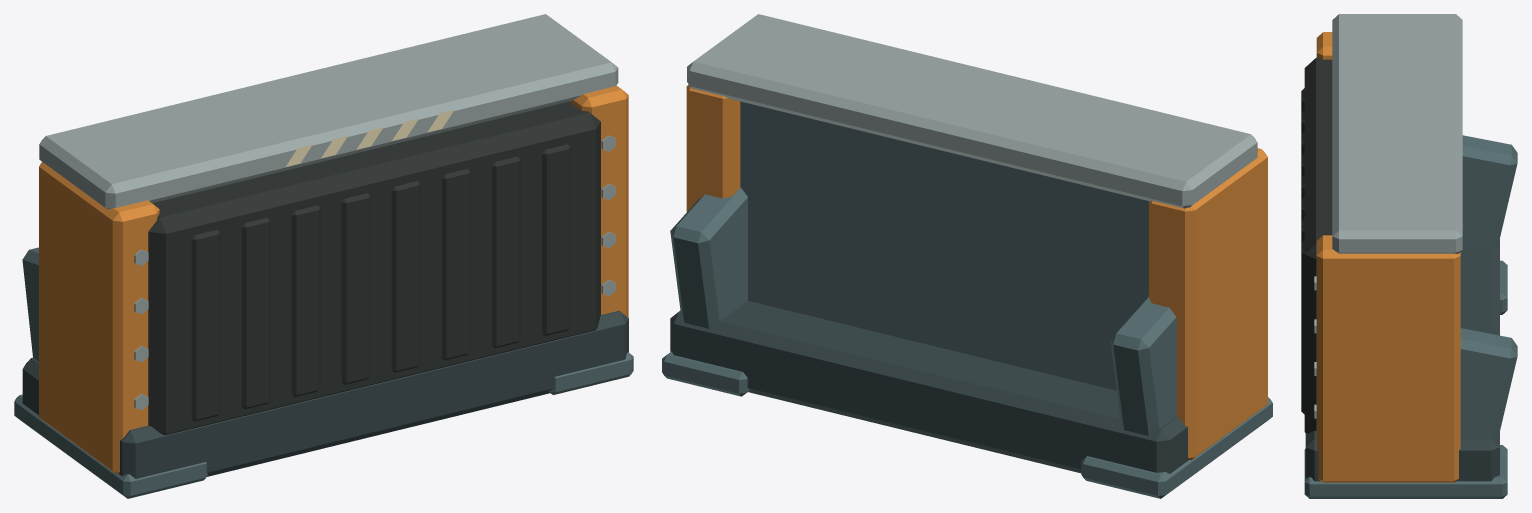
The model's file is e2-charge-stop.glb.
3 views of the same model, side by side, from view 1: azimuth 30°, elevation 25°; view 2: azimuth 150°, elevation 25°; view 3: azimuth 270°, elevation 25° (orthographic). The views are drawn at different scales.
Visible parts, largest first — view 1: ChargeStopFrame, ChargeStopReplaceableFace; view 2: ChargeStopFrame; view 3: ChargeStopFrame, ChargeStopReplaceableFace.
Part boxes in pixels (box(x1,y1,x2,y2)): ChargeStopFrame: box(14, 14, 633, 498); ChargeStopReplaceableFace: box(148, 101, 600, 435); ChargeStopFrame: box(662, 14, 1272, 498); ChargeStopFrame: box(1304, 14, 1517, 498); ChargeStopReplaceableFace: box(1301, 57, 1332, 433).
Size of the model in its own units: 2.47 by 1.39 by 1.01.
